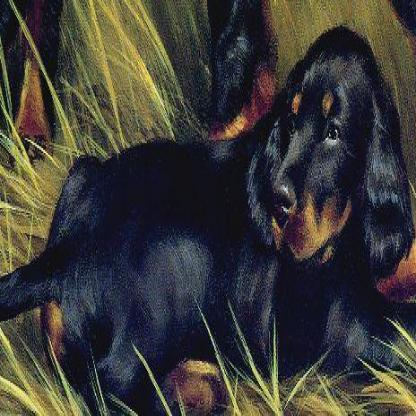Gordon_setter: (0, 23, 414, 413)
